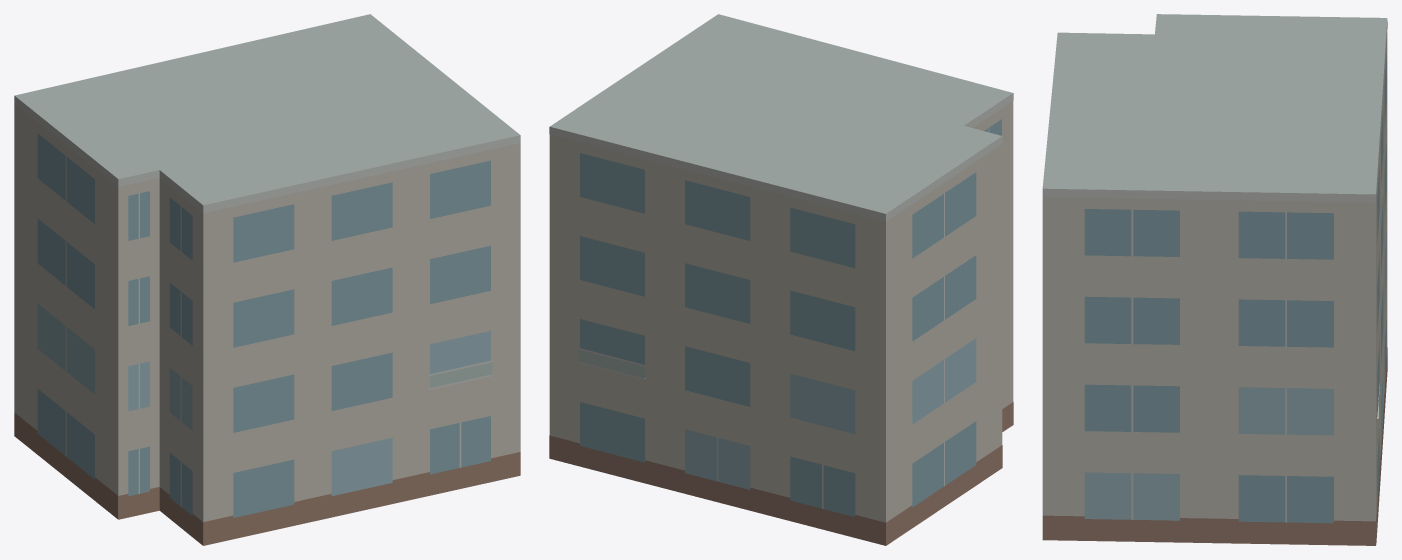
The model's file is survey-upis-32652127.glb.
3 views of the same model, side by side, from view 1: azimuth 30°, elevation 25°; view 2: azimuth 150°, elevation 25°; view 3: azimuth 270°, elevation 25° (orthographic). The views are drawn at different scales.
Parts seen in each view (by area): view 1: survey-upis-32652127.tmp; view 2: survey-upis-32652127.tmp; view 3: survey-upis-32652127.tmp.
Boxes of the visible parts, left/top/right/bottom form: survey-upis-32652127.tmp: left=14, top=14, right=520, bottom=545; survey-upis-32652127.tmp: left=549, top=14, right=1013, bottom=545; survey-upis-32652127.tmp: left=1042, top=14, right=1387, bottom=545.
Size of the model in its own units: 11.57 by 10.5 by 9.35.
